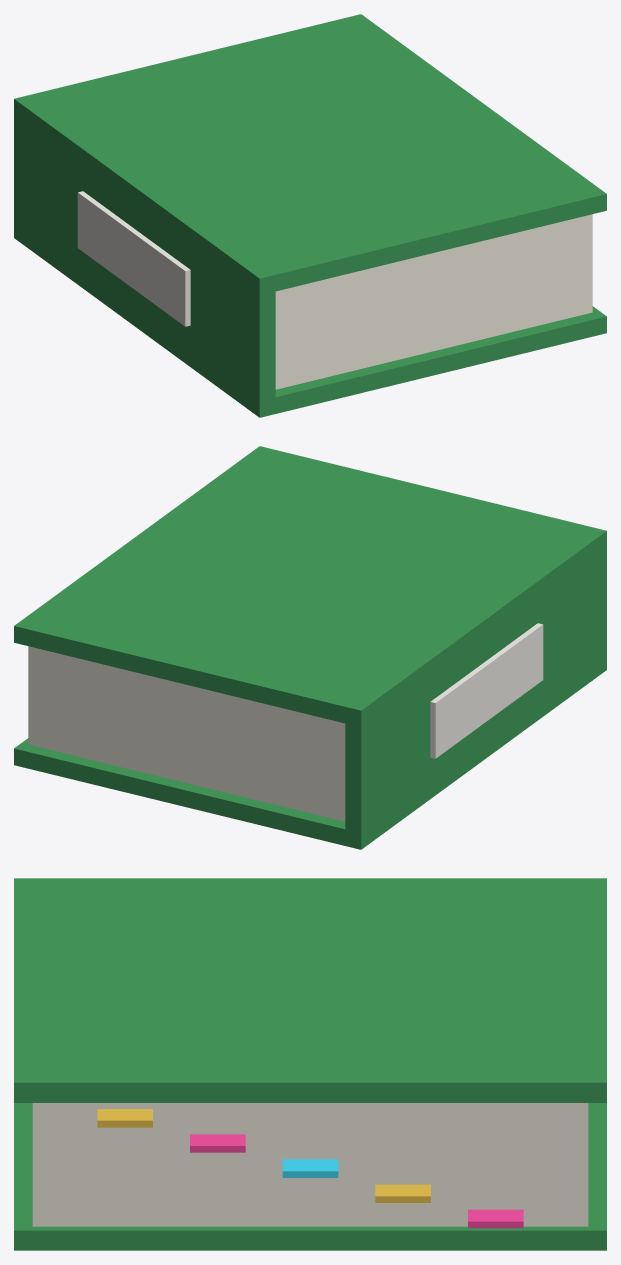
Rendered from gym_members_binder.glb.
3 renders of one model, top to bottom at view 1: azimuth 30°, elevation 25°; view 2: azimuth 150°, elevation 25°; view 3: azimuth 270°, elevation 25°, orthographic. The views are drawn at different scales.
Parts seen in each view (by area): view 1: cover_binder_green, pages_sheet_paper, label_white; view 2: cover_binder_green, pages_sheet_paper, label_white; view 3: cover_binder_green, pages_sheet_paper, tabs_binder_tab (×5).
Part boxes in pixels (left/top/right/bottom): cover_binder_green: left=14, top=14, right=606, bottom=417; pages_sheet_paper: left=275, top=214, right=592, bottom=389; label_white: left=77, top=191, right=190, bottom=326; cover_binder_green: left=14, top=446, right=606, bottom=849; pages_sheet_paper: left=28, top=646, right=345, bottom=821; label_white: left=430, top=623, right=543, bottom=758; cover_binder_green: left=14, top=878, right=606, bottom=1250; pages_sheet_paper: left=32, top=1103, right=588, bottom=1226; tabs_binder_tab (×5): left=97, top=1109, right=523, bottom=1228.
Size of the model in its own units: 0.275 by 0.1 by 0.32.
